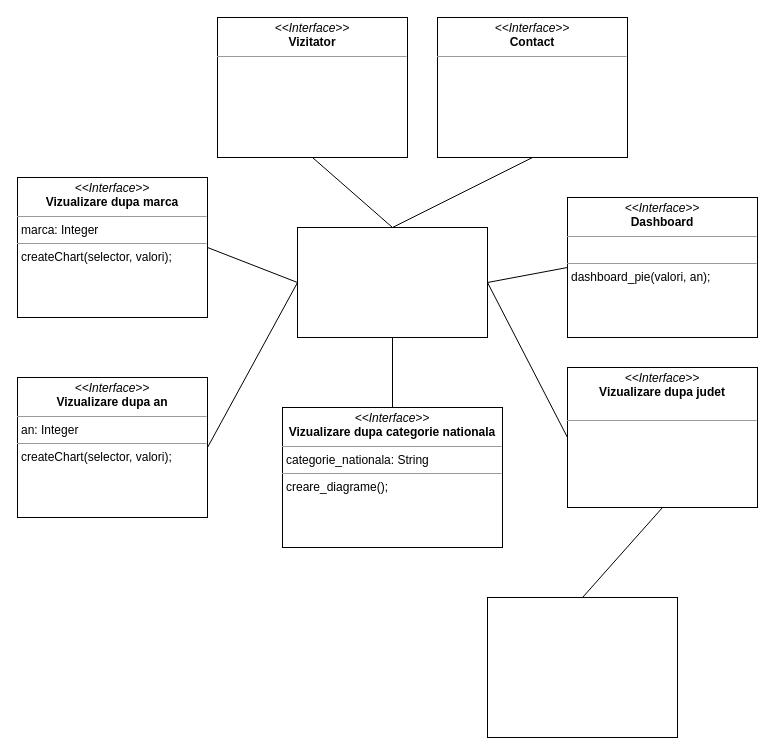
The diagram is 775 pixels wide and 755 high, and some of its shapes have lost their labels. Each missing label, with the centre of its shape:
<<Interface>> Google Maps: pixel 582 667
Interfata addBanner(); downloadFile();: pixel 392 282
